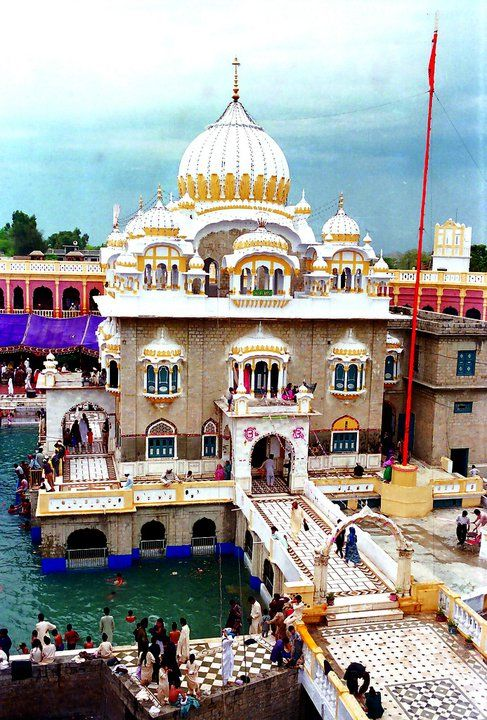Gurdwara: (75, 58, 402, 539)
